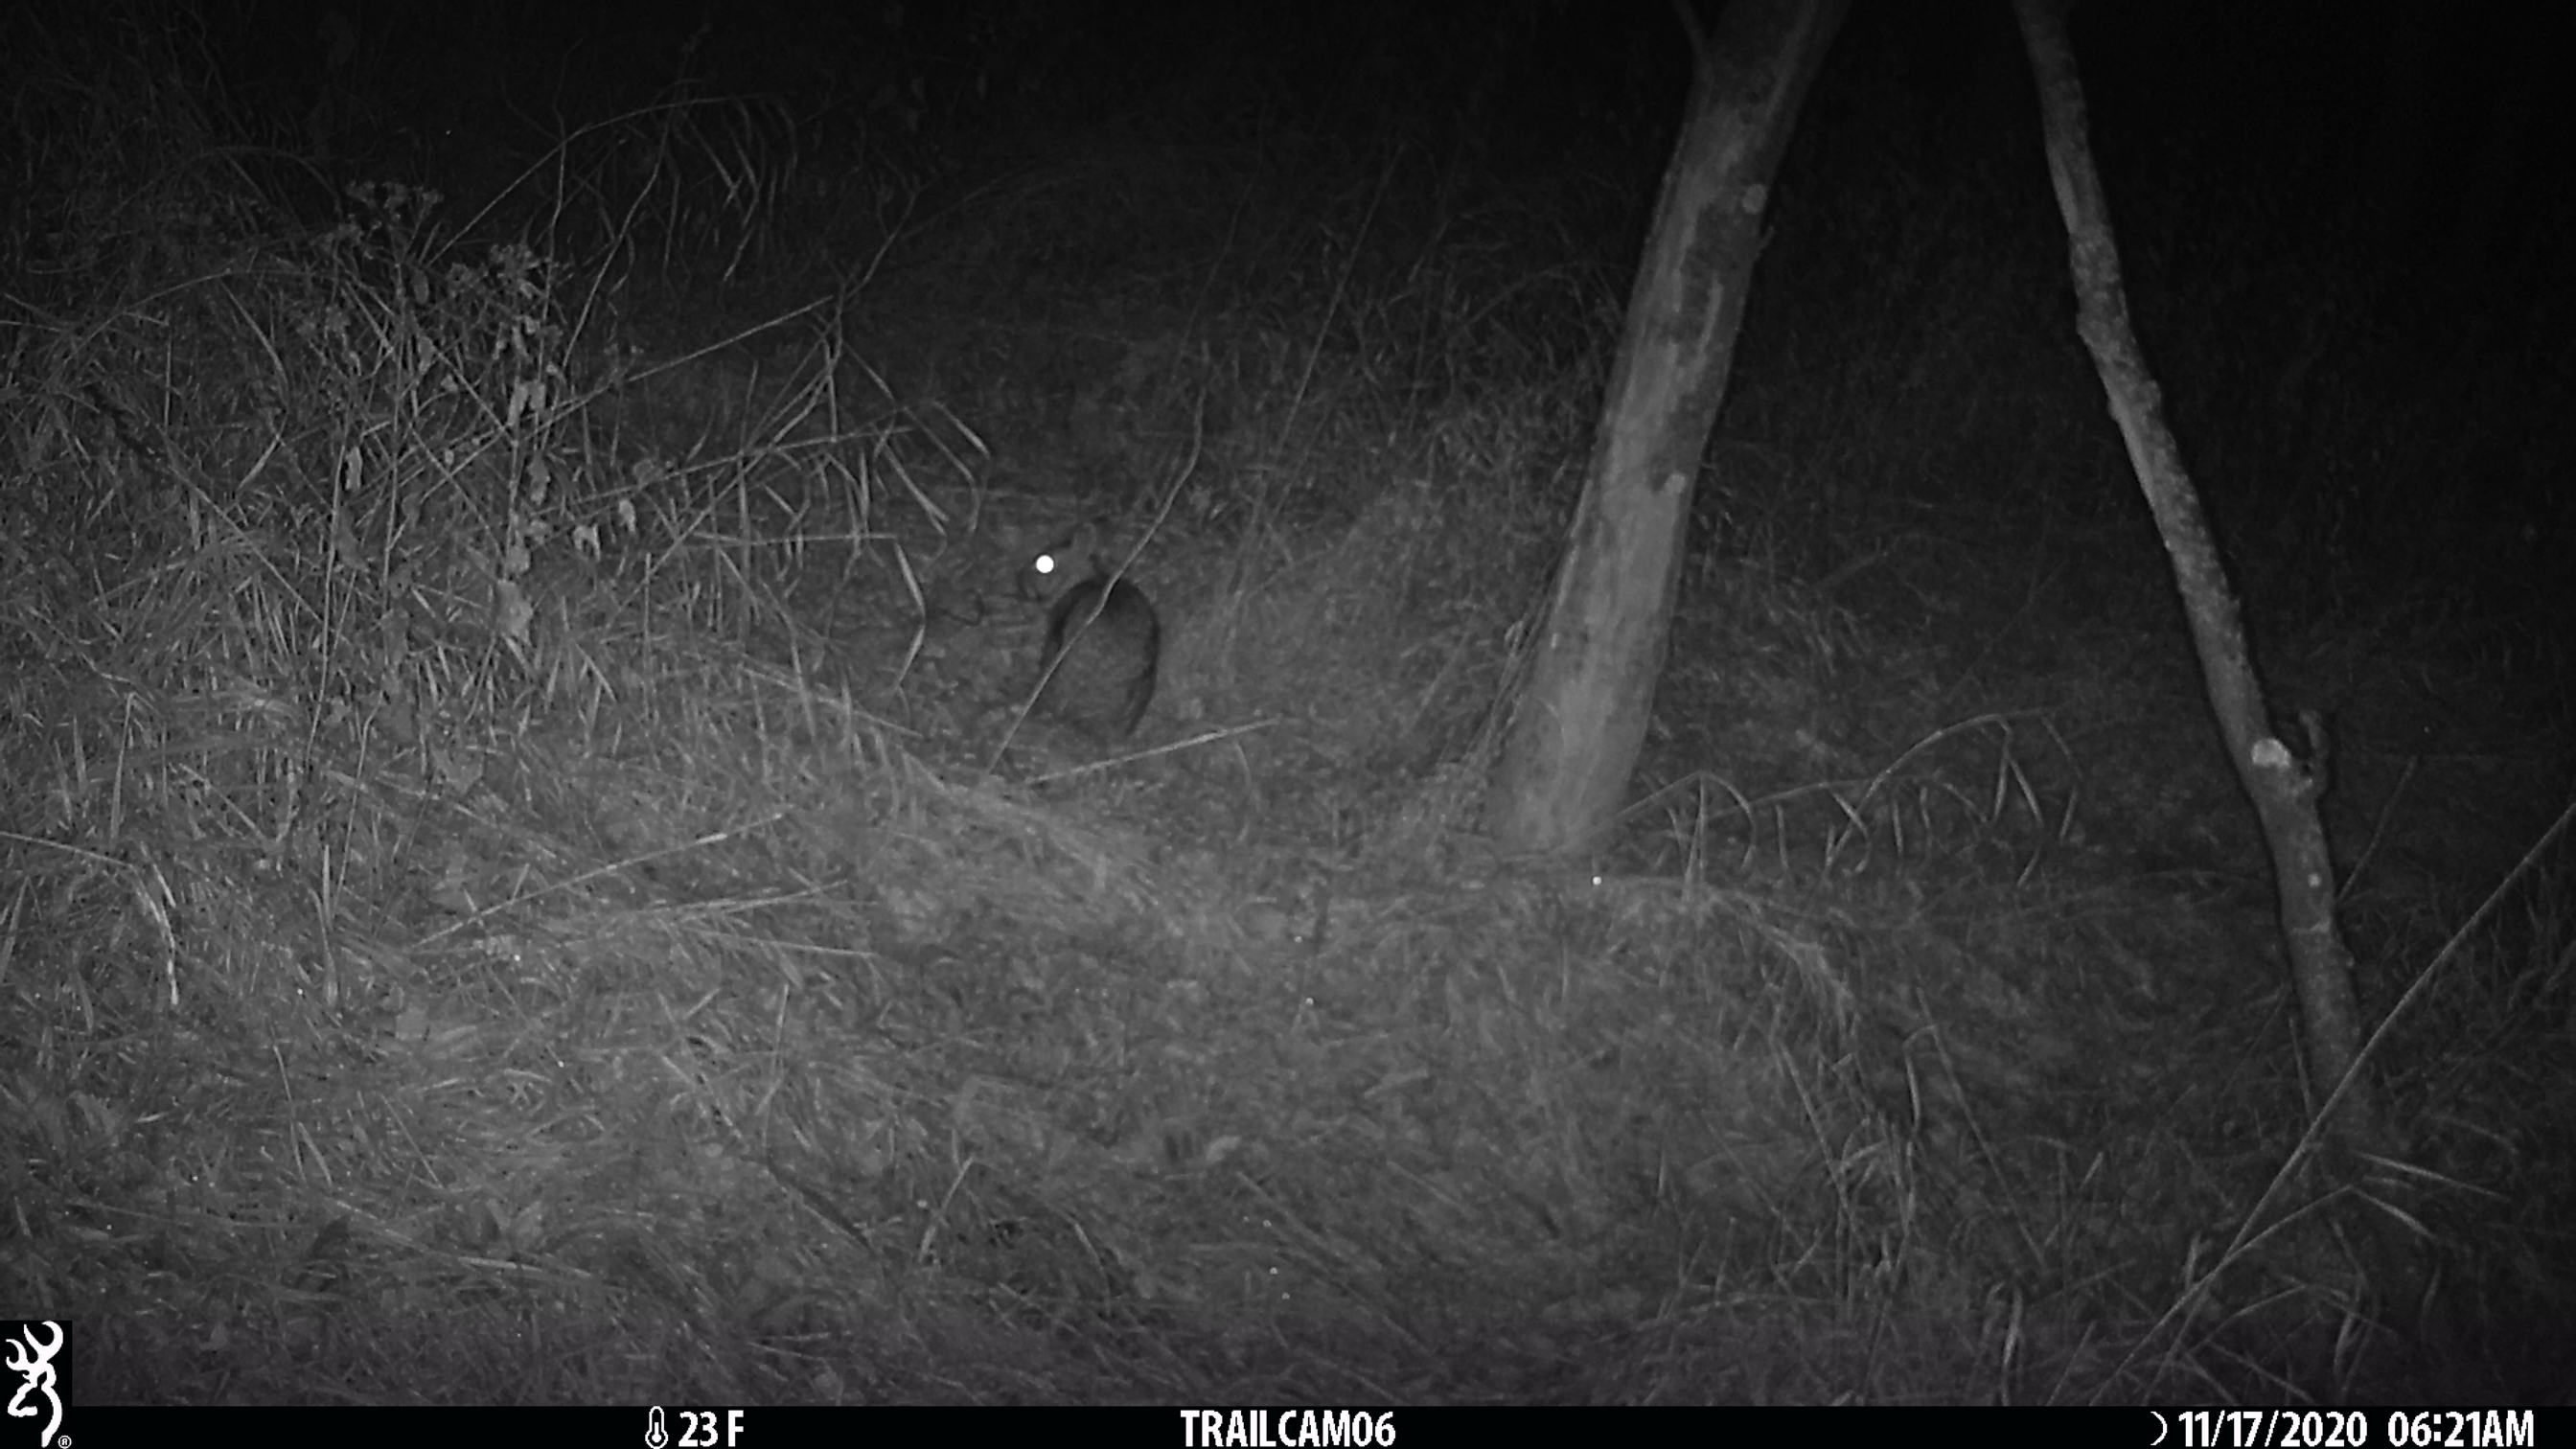Rabbit: (1007, 515, 1161, 741)
